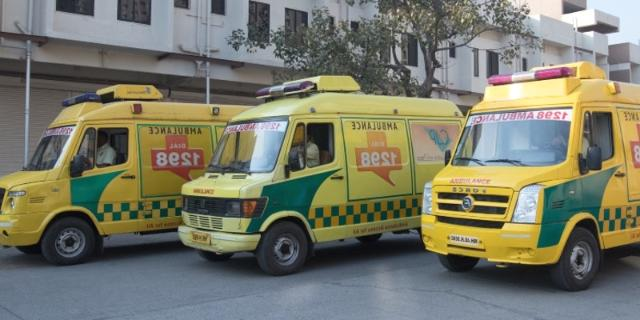ambulance: (179, 75, 462, 274), (418, 62, 640, 290), (1, 84, 251, 265)
